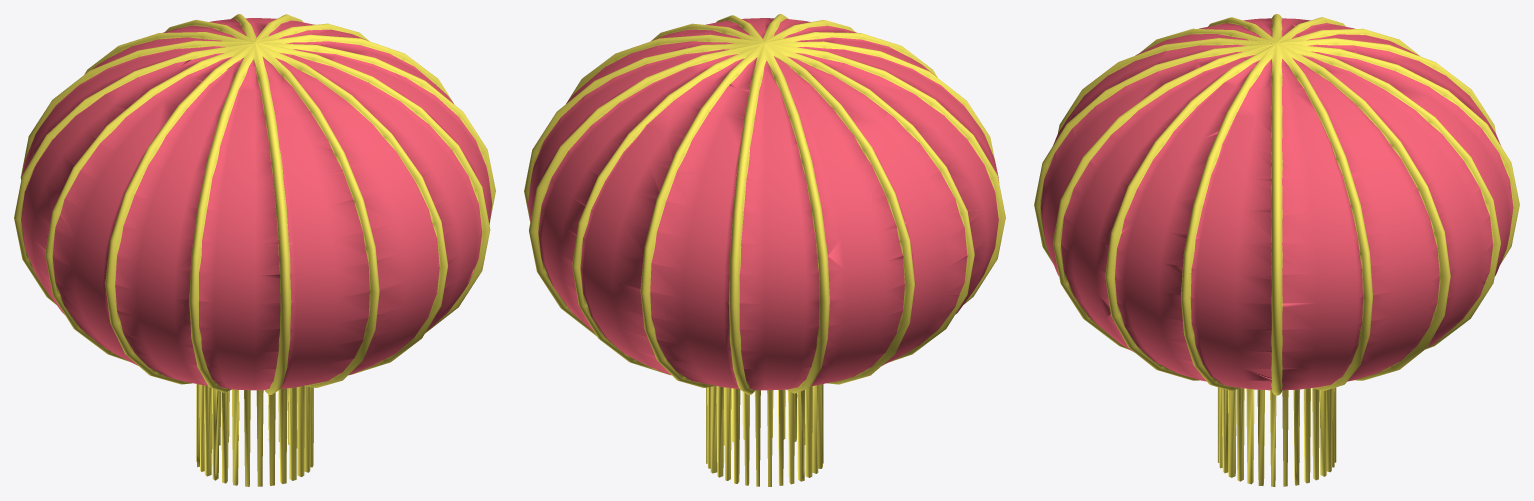
The model's file is lantern.fbx.
3 views of the same model, side by side, from view 1: azimuth 30°, elevation 25°; view 2: azimuth 150°, elevation 25°; view 3: azimuth 270°, elevation 25° (orthographic).
Parts seen in each view (by area): view 1: obj_0; view 2: obj_0; view 3: obj_0.
Part boxes in pixels (x1,y1,x2,y2): obj_0: [14, 14, 495, 486]; obj_0: [524, 14, 1005, 486]; obj_0: [1034, 14, 1519, 486].
Bounding box in the file's own units: 2050 × 1950 × 2050.
